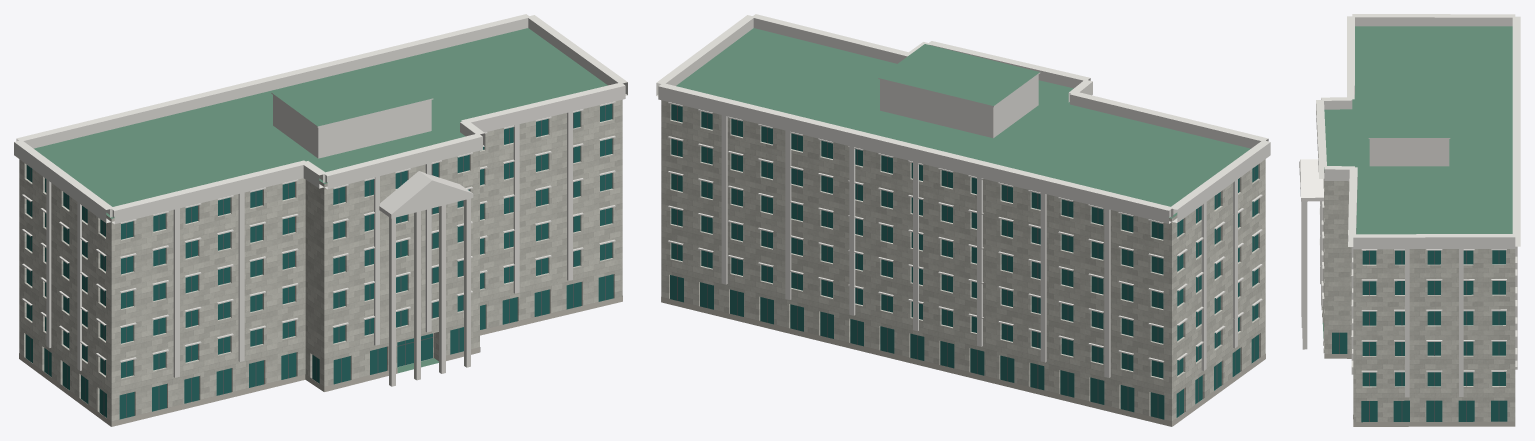
The picture shows the model from 3 angles, left to right: view 1: azimuth 30°, elevation 25°; view 2: azimuth 150°, elevation 25°; view 3: azimuth 270°, elevation 25°; orthographic projection. The views are drawn at different scales.
Visible parts, largest first — view 1: educationMain__wall, educationMain__trim, educationMain__roof, educationMain__glass, educationMain__column, educationMain__base, educationMain__frame; view 2: educationMain__wall, educationMain__trim, educationMain__roof, educationMain__glass, educationMain__base, educationMain__frame; view 3: educationMain__roof, educationMain__wall, educationMain__trim, educationMain__glass, educationMain__base, educationMain__column, educationMain__frame.
Part boxes in pixels (x1,y1,x2,y2): educationMain__wall: (19,99,622,426); educationMain__trim: (14,14,627,377); educationMain__roof: (34,28,607,373); educationMain__glass: (25,103,613,419); educationMain__column: (389,198,470,386); educationMain__base: (19,296,622,426); educationMain__frame: (30,105,605,417); educationMain__wall: (661,100,1265,426); educationMain__trim: (656,14,1270,377); educationMain__roof: (676,28,1250,218); educationMain__glass: (670,104,1258,419); educationMain__base: (661,297,1265,426); educationMain__frame: (677,105,1254,417); educationMain__roof: (1322,26,1512,338); educationMain__wall: (1322,170,1515,422); educationMain__trim: (1299,14,1520,397); educationMain__glass: (1332,250,1507,422); educationMain__base: (1321,307,1515,426); educationMain__column: (1301,201,1307,349); educationMain__frame: (1339,250,1499,421).
Size of the model in its own units: 59.92 by 26.4 by 25.04.
Materials: 8 (1 with a texture image).
